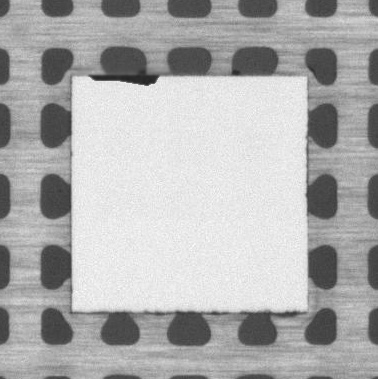DIE_BROKEN: (86, 71, 161, 90)
